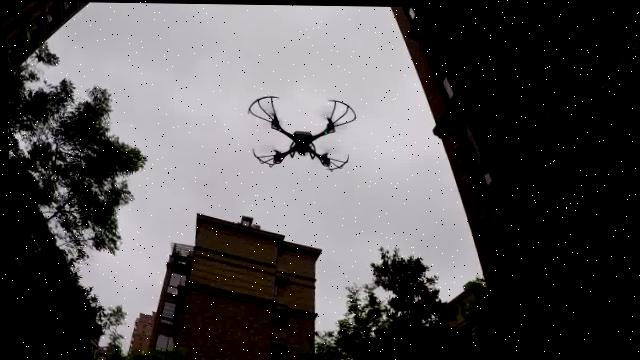drone: (243, 91, 363, 174)
